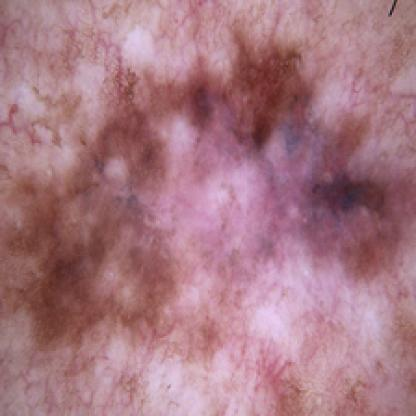Skin_Cancer-Malignant: (20, 37, 416, 354)
